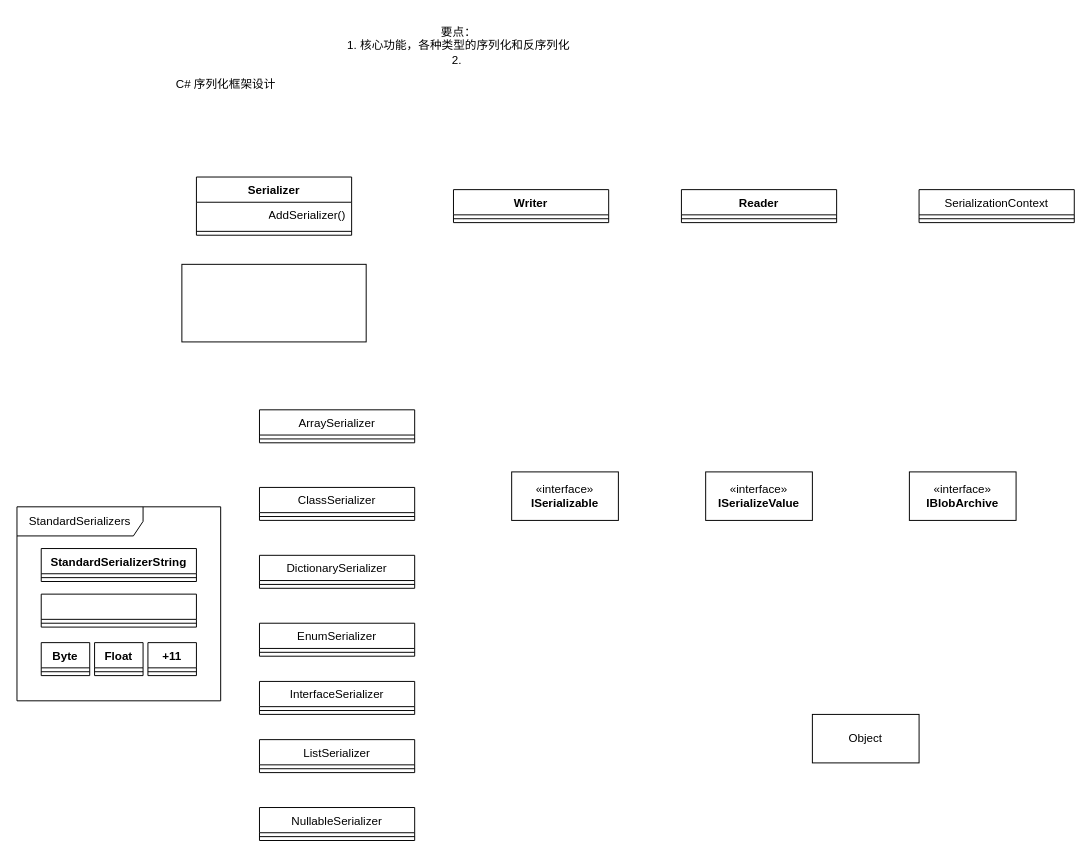
The diagram is 1091 pixels wide and 857 high, and some of its shapes have lost their labels. Here are the shapes that lost their labels. From the top down, the centre of each, then its label:
At pixel 273 302: "<<Interface>> ISerializer Write() Read()".
At pixel 118 610: "StandardSerializerChar".
